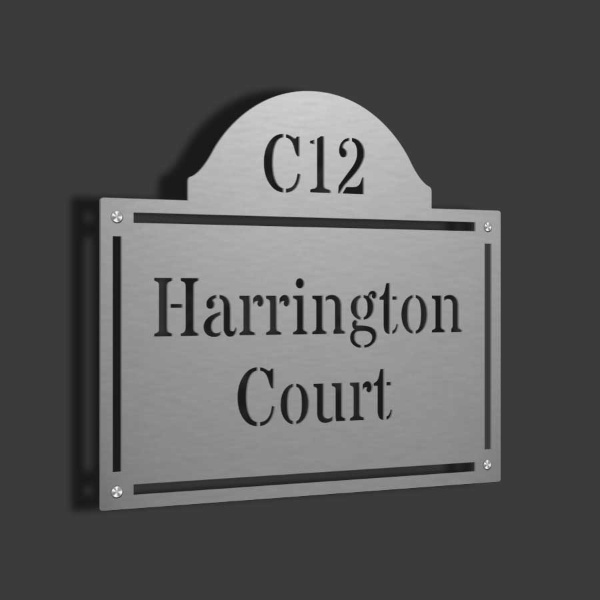text: (161, 275, 176, 351), (177, 275, 192, 351), (193, 275, 208, 351), (209, 275, 224, 351), (225, 275, 240, 351), (241, 275, 256, 351), (257, 275, 272, 351), (273, 275, 288, 351), (289, 275, 304, 351), (305, 275, 320, 351), (321, 275, 336, 351), (337, 275, 352, 351), (353, 275, 368, 351), (369, 275, 384, 351), (385, 275, 400, 351), (401, 275, 416, 351), (417, 275, 432, 351), (433, 275, 448, 351), (449, 275, 463, 351), (241, 363, 256, 430), (257, 363, 272, 430), (273, 363, 288, 430), (289, 363, 304, 430), (305, 363, 320, 430), (321, 363, 336, 430), (337, 363, 352, 430), (353, 363, 368, 430), (369, 363, 384, 430), (273, 131, 288, 196), (289, 131, 304, 196), (305, 131, 320, 196), (321, 131, 336, 196), (337, 131, 352, 196), (353, 131, 367, 196), (385, 363, 393, 430), (153, 275, 160, 351), (264, 131, 272, 196), (239, 363, 240, 430)
